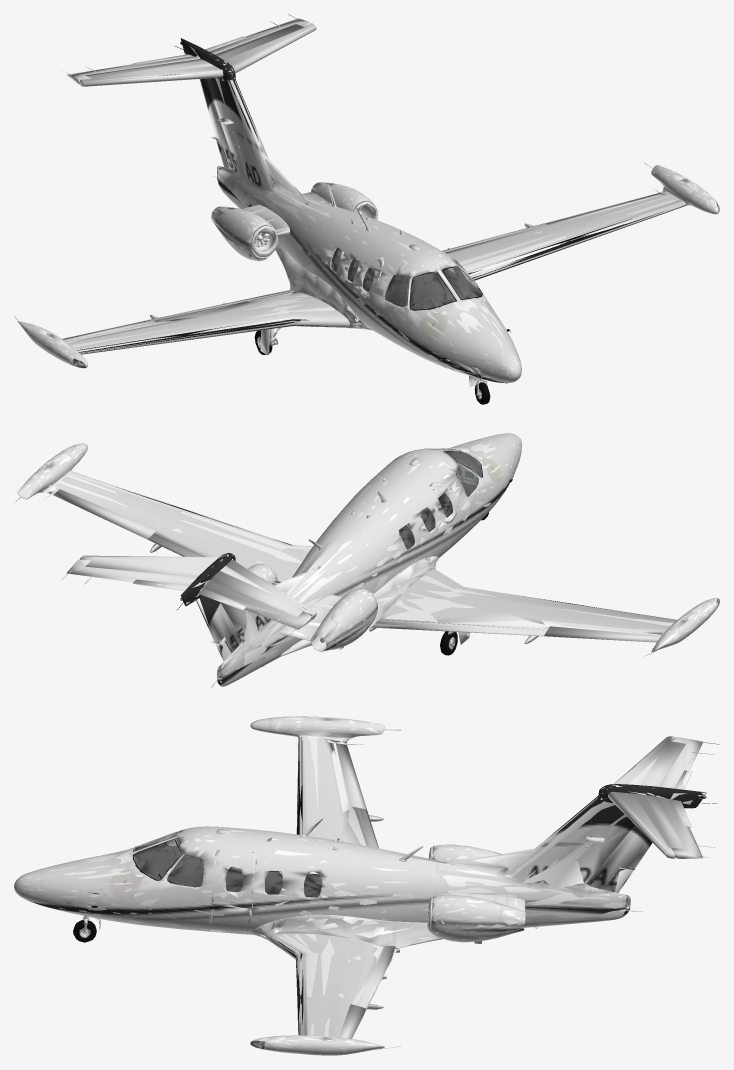
The picture shows the model from 3 angles, top to bottom: view 1: azimuth 30°, elevation 25°; view 2: azimuth 150°, elevation 25°; view 3: azimuth 270°, elevation 25°; orthographic projection. The views are drawn at different scales.
Visible parts, largest first — view 1: Object_8, Object_47, Object_25, Object_37, Object_39, Object_4, Object_10; view 2: Object_8, Object_47, Object_25, Object_37, Object_39, Object_4, Object_10; view 3: Object_8, Object_47, Object_25, Object_39, Object_37, Object_10, Object_4.
Boxes of the visible parts, x1,y1,x2,y2 form: Object_8: (17, 18, 718, 387); Object_47: (18, 36, 717, 382); Object_25: (72, 42, 719, 368); Object_37: (73, 46, 717, 367); Object_39: (331, 248, 482, 309); Object_4: (46, 171, 717, 395); Object_10: (14, 14, 658, 399); Object_8: (17, 433, 718, 686); Object_47: (18, 435, 717, 686); Object_25: (180, 448, 719, 678); Object_37: (123, 449, 717, 677); Object_39: (399, 451, 481, 549); Object_4: (45, 461, 718, 679); Object_10: (14, 458, 656, 687); Object_8: (14, 716, 706, 1055); Object_47: (17, 716, 705, 1055); Object_25: (134, 796, 706, 1048); Object_39: (135, 842, 321, 897); Object_37: (91, 737, 716, 1048); Object_10: (79, 729, 719, 1049); Object_4: (83, 717, 629, 1047).
Size of the model in its own units: 11.6 by 2.94 by 10.56.
Materials: 14 (2 with a texture image).
